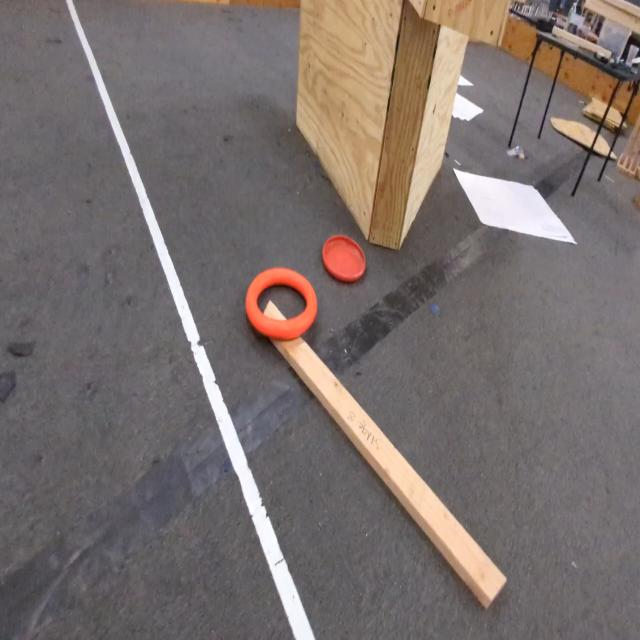note: (246, 274, 318, 342)
